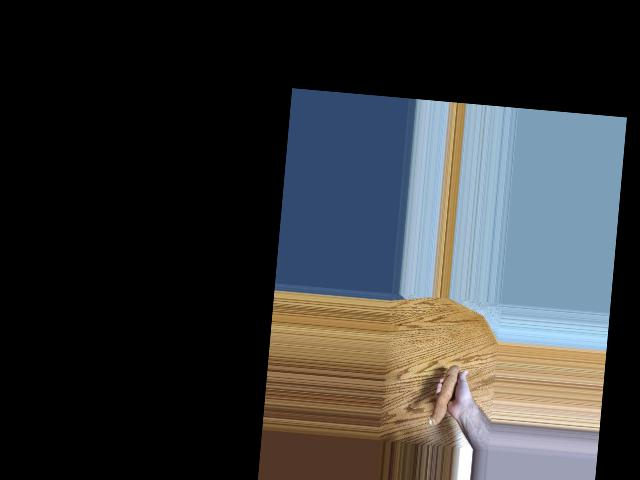sweet_potato: (438, 363, 460, 427)
